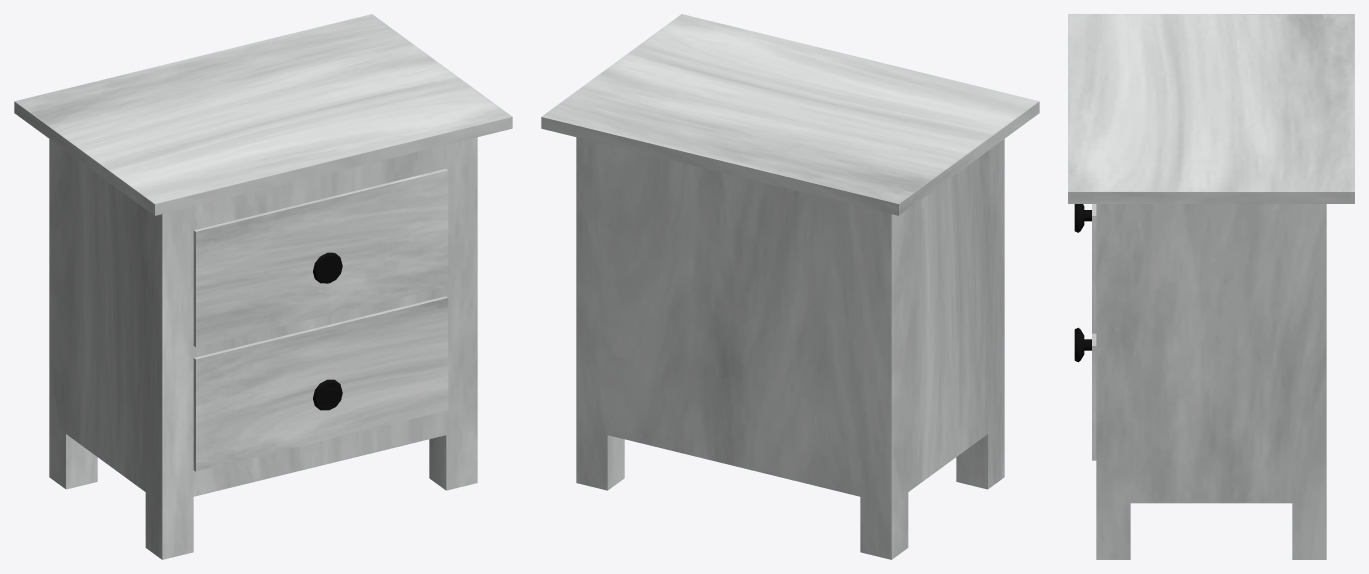
Rendered from dresser.glb.
The picture shows the model from 3 angles, left to right: view 1: azimuth 30°, elevation 25°; view 2: azimuth 150°, elevation 25°; view 3: azimuth 270°, elevation 25°; orthographic projection.
Visible parts, largest first — view 1: Dresser_Base_Dresser_Base_0, Dresser_TopShelf_Dresser_TopShelf_0, Dresser_BottomShelf_Dresser_BottomShelf_0; view 2: Dresser_Base_Dresser_Base_0; view 3: Dresser_Base_Dresser_Base_0, Dresser_BottomShelf_Dresser_BottomShelf_0, Dresser_TopShelf_Dresser_TopShelf_0.
Part boxes in pixels (x1=…): Dresser_Base_Dresser_Base_0: x1=14, y1=14, x2=512, y2=559; Dresser_TopShelf_Dresser_TopShelf_0: x1=193, y1=169, x2=448, y2=347; Dresser_BottomShelf_Dresser_BottomShelf_0: x1=193, y1=296, x2=448, y2=471; Dresser_Base_Dresser_Base_0: x1=541, y1=14, x2=1039, y2=559; Dresser_Base_Dresser_Base_0: x1=1068, y1=14, x2=1354, y2=559; Dresser_BottomShelf_Dresser_BottomShelf_0: x1=1074, y1=327, x2=1096, y2=460; Dresser_TopShelf_Dresser_TopShelf_0: x1=1074, y1=204, x2=1096, y2=333.
Size of the model in its own units: 1.1 by 1.09 by 0.7484.
Materials: 3 (3 with a texture image).
